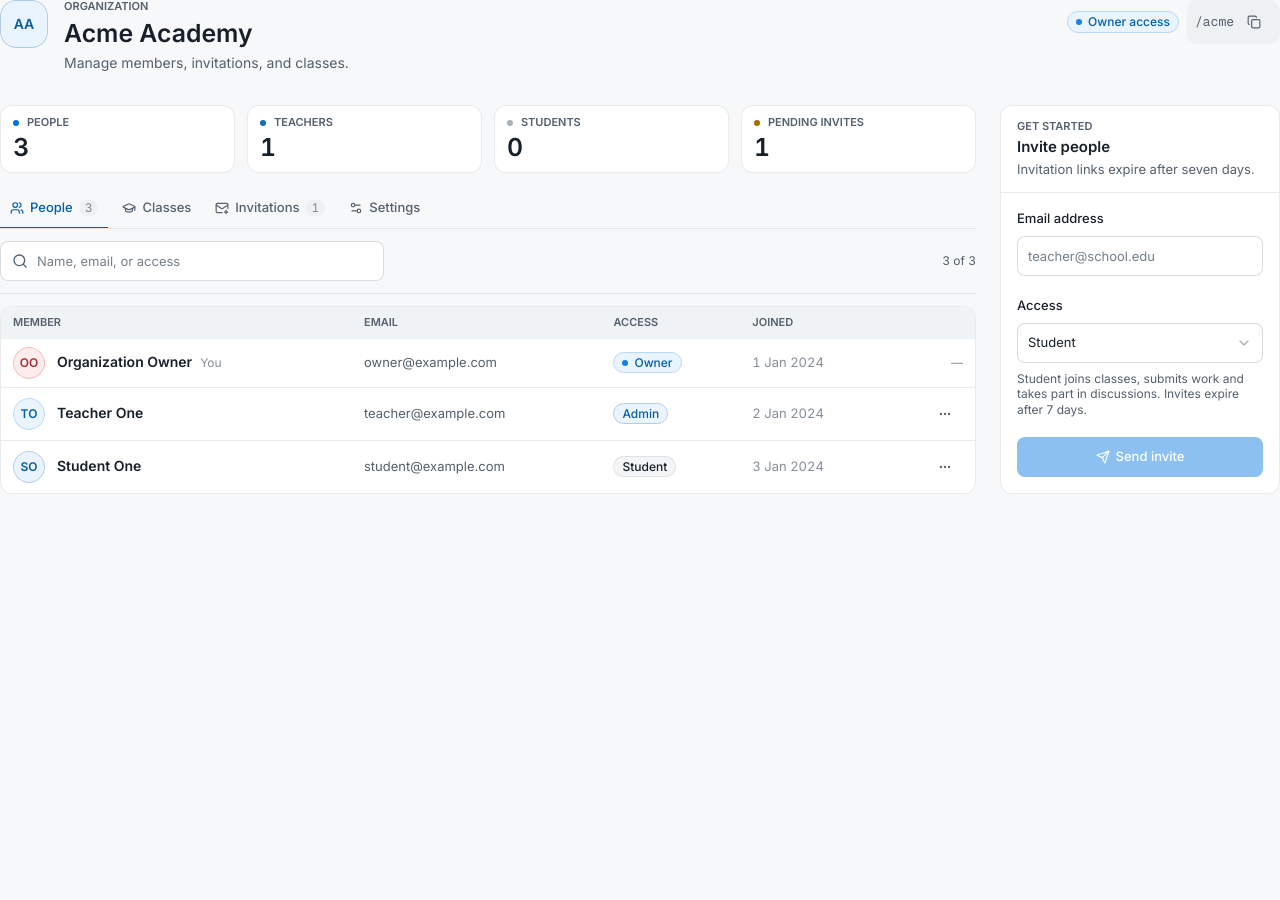
OrganizationAdminClient › wires invitation revocation through the confirmation dialog
Click the tab "Invitations 1". click: (270, 209)
box: [205,189,335,229]
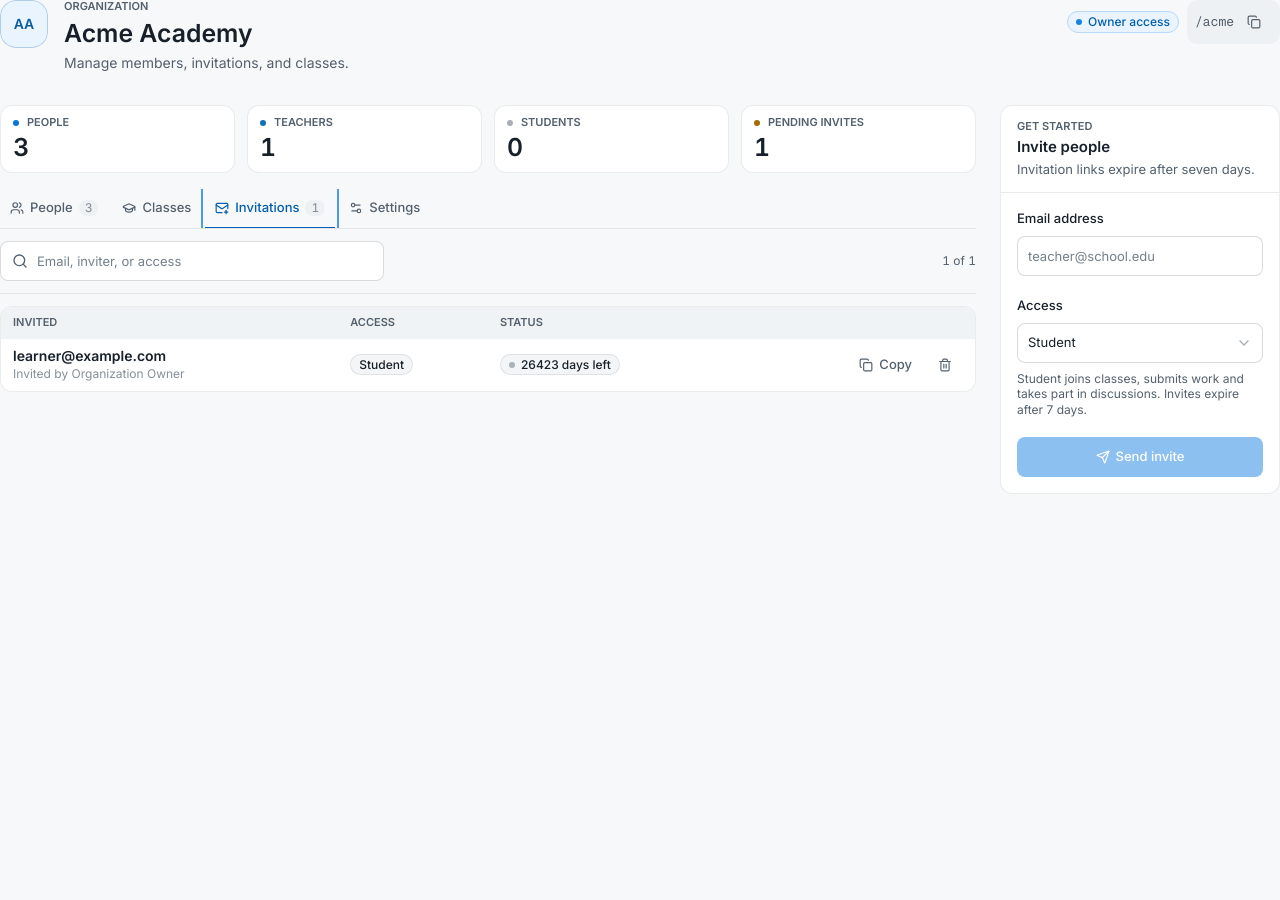
Click the button named "Revoke invitation for learner@example.com". click: (945, 365)
box: [927,347,963,383]
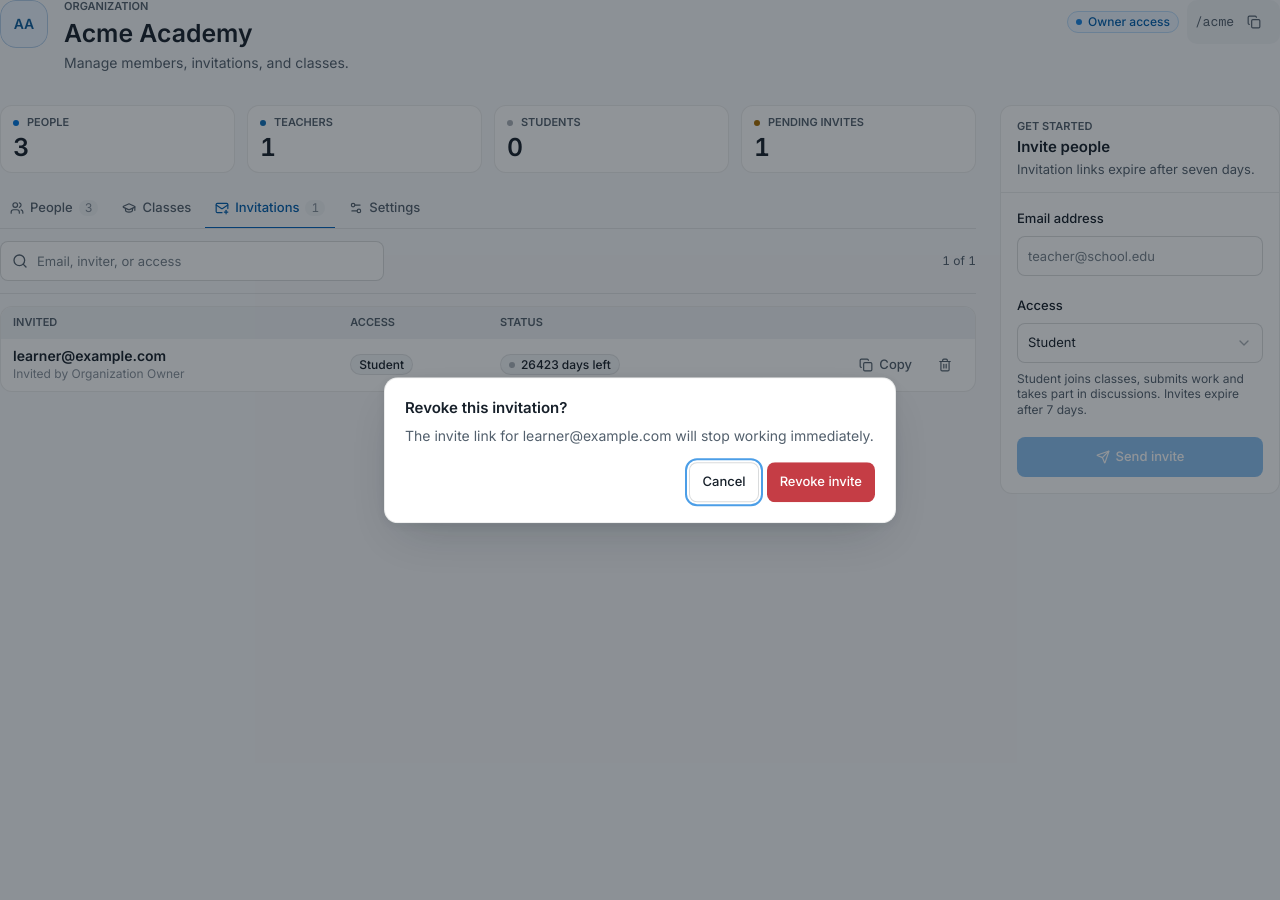
Now the heading "Revoke this invitation?" is shown, box [405,398,567,417]
Click the button "Revoke invite". click: (821, 482)
box: [767,462,875,502]
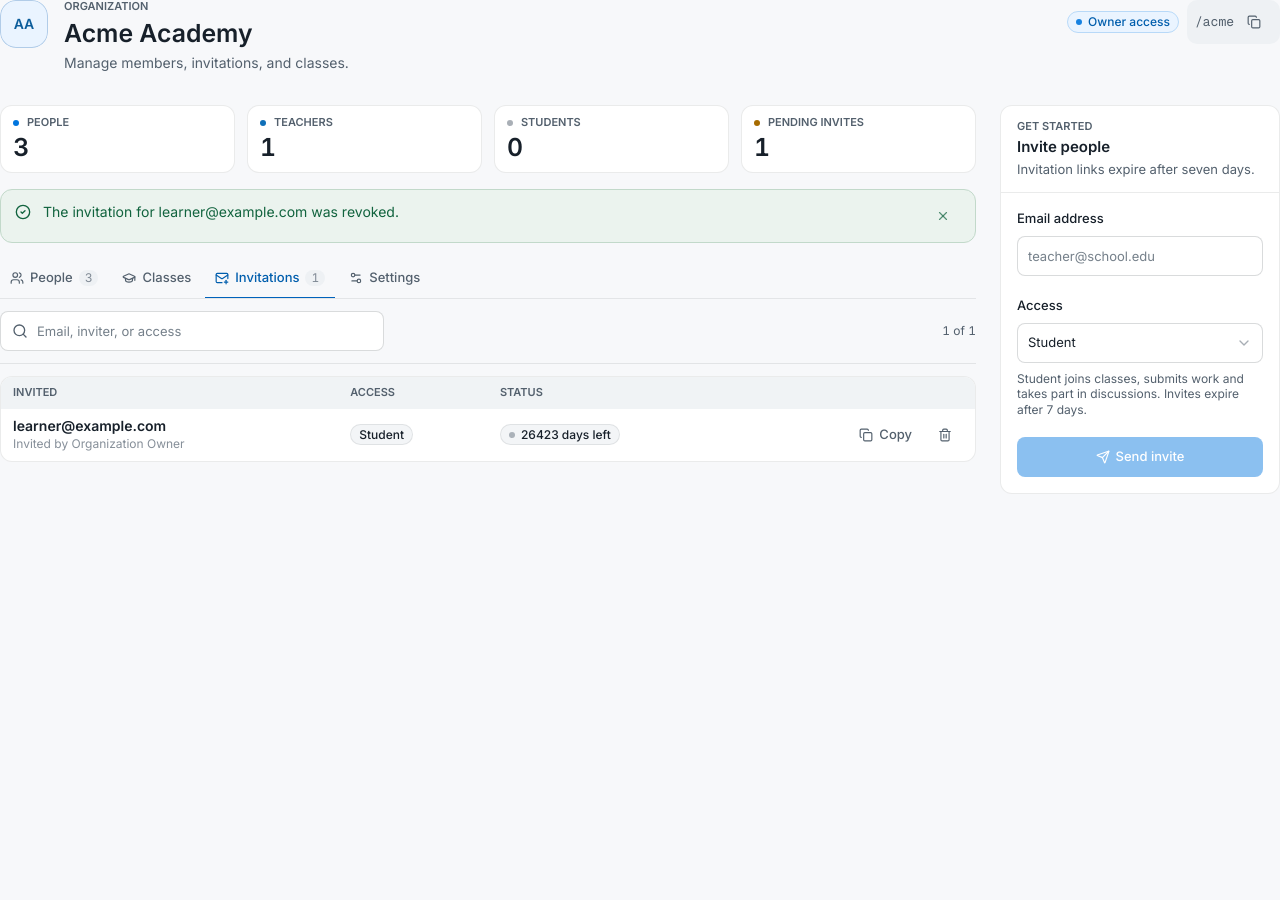
Now the text "The invitation for learner@example.com was revoked." is shown, box [43,203,399,220]
